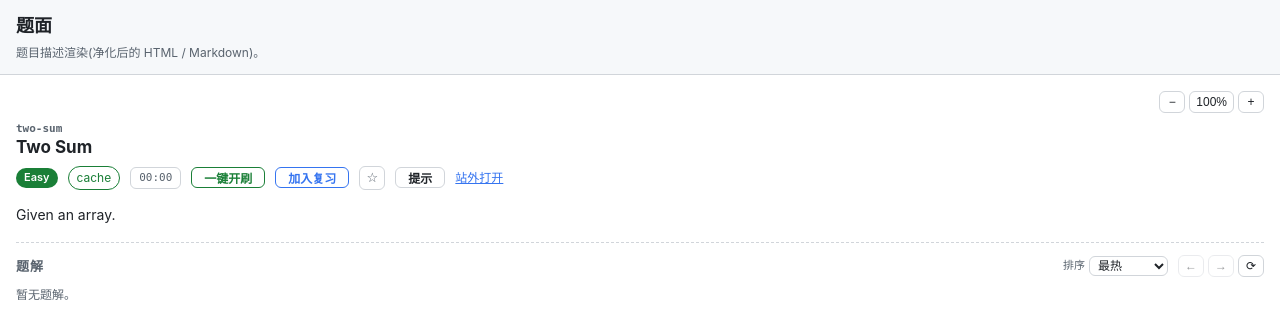
Test: problem-view favorite star (WP73) › rolls back to hollow with the backend message when the toggle fails with 502
Click the button with class "statement-header__fav".
click(372, 178)  # box [359,166,385,190]
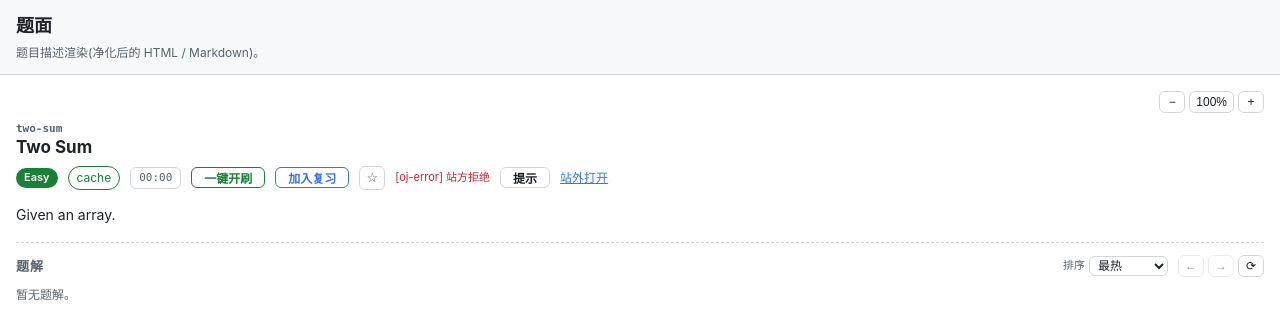
Expected: the message "[oj-error] 站方拒绝" is shown, [395,169,490,187]
